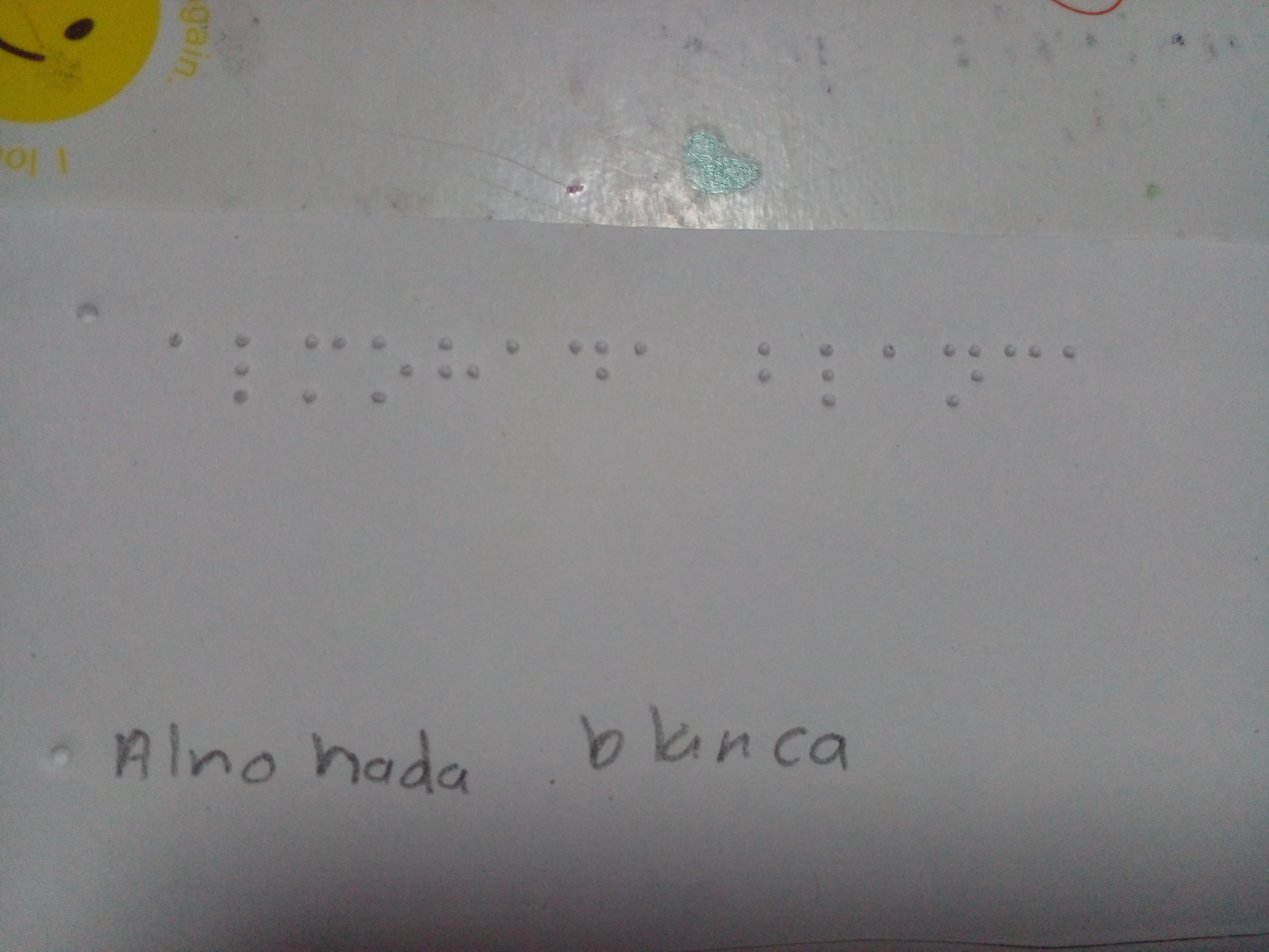a: (496, 325, 533, 383), (160, 316, 191, 373), (626, 321, 652, 373), (1052, 338, 1086, 373), (869, 332, 905, 361)
b: (750, 335, 785, 395)
c: (1001, 335, 1044, 389)
d: (561, 327, 620, 397)
h: (435, 322, 486, 389)
l: (223, 327, 259, 417), (809, 335, 843, 420)
m: (294, 321, 350, 417)
n: (936, 332, 993, 417)
o: (361, 327, 417, 411)
